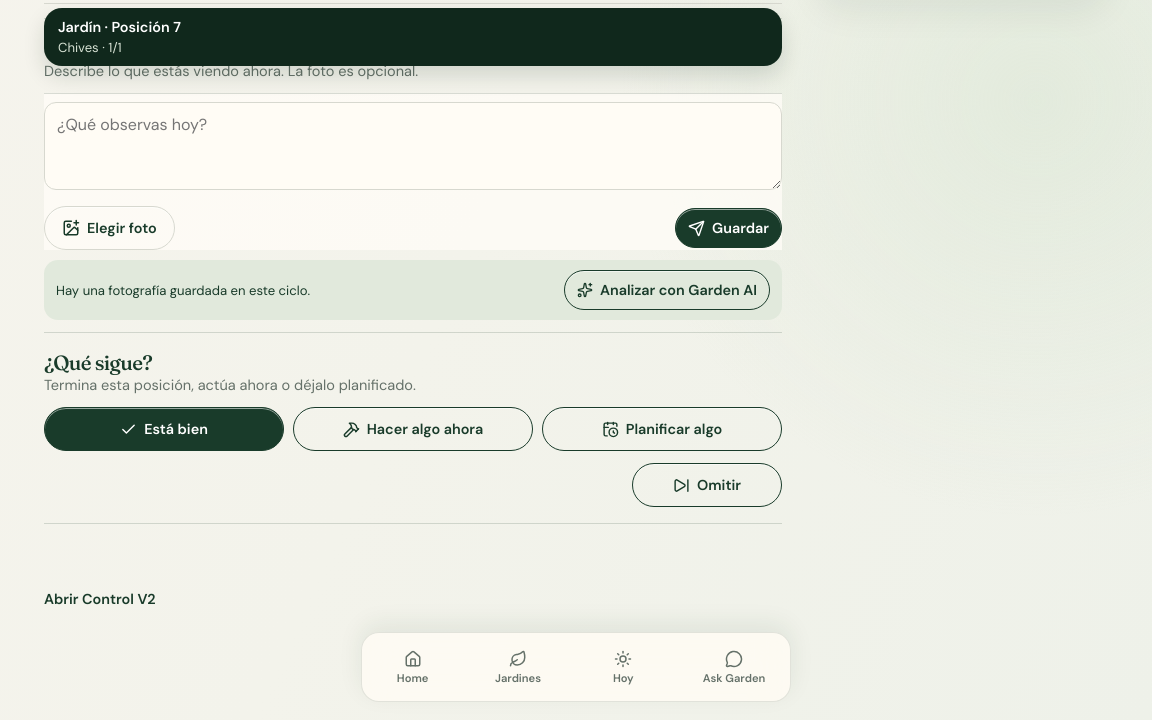
Scenario: Maintenance confirmed feedback › does not advance or claim success before remote confirmation or on failure
(page scrolled)
Click the button "Está bien" at (164, 429), box [44,407,284,451]
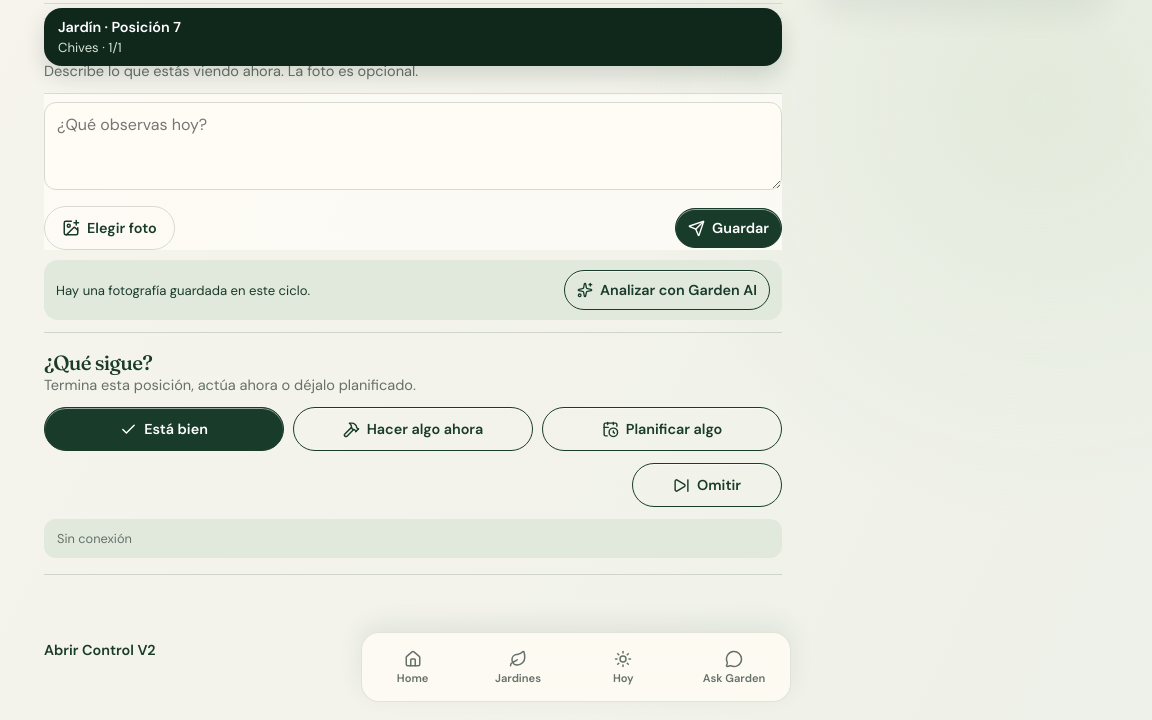
Check: the text "Sin conexión" is shown, box [57,530,132,547]
